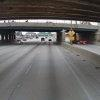Bridge: (1, 17, 96, 43)
